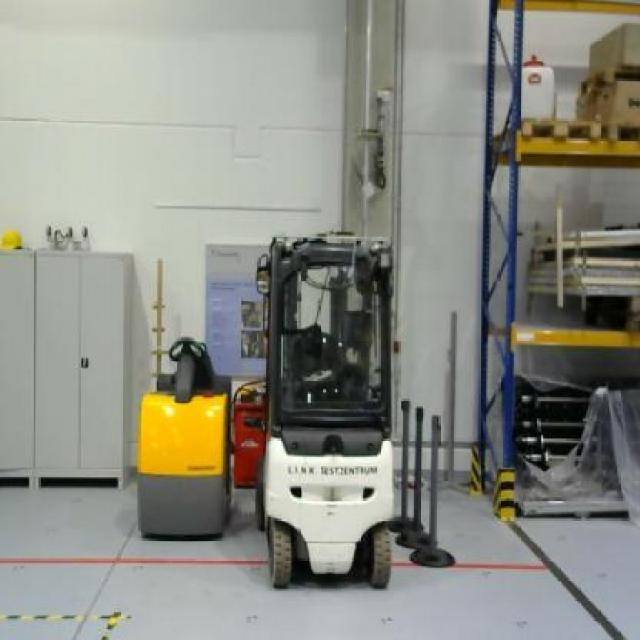box: (576, 78, 639, 130), (586, 22, 640, 70)
